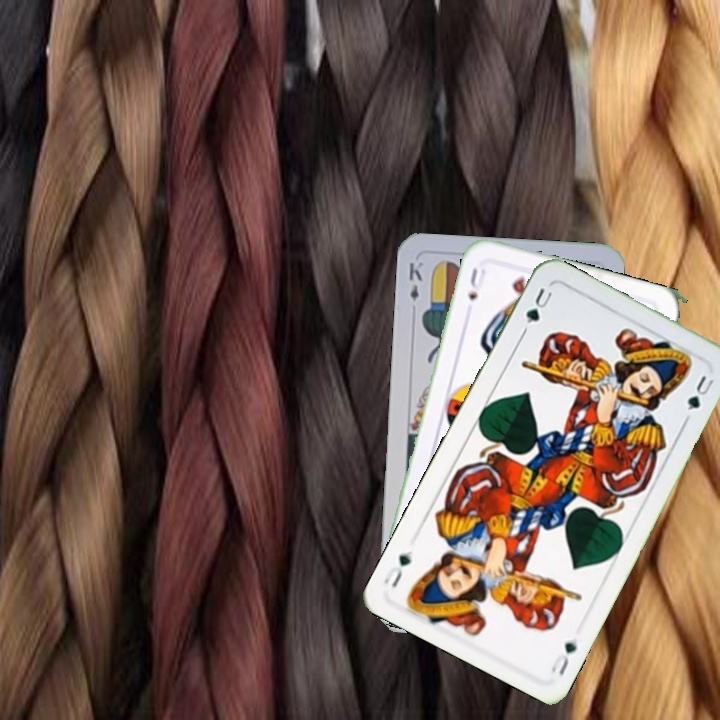EK: (404, 257, 425, 304)
GU: (547, 633, 580, 678), (521, 284, 555, 326)
SU: (463, 264, 489, 303)
